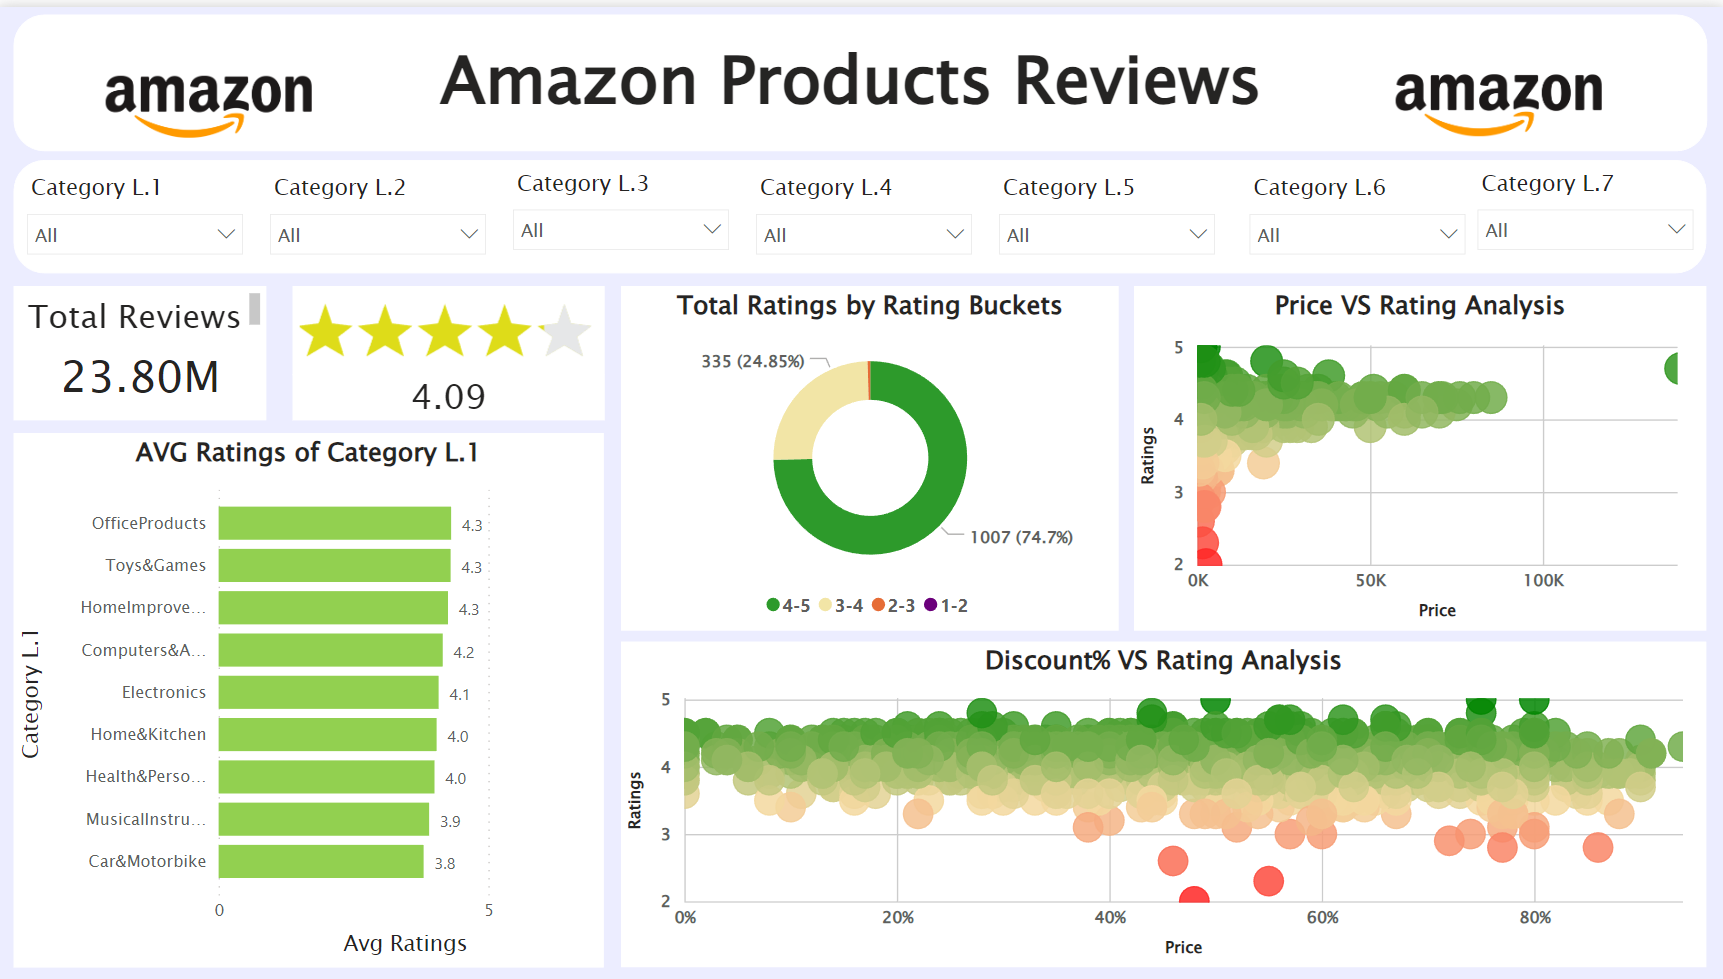

Layout of this report page (visuals, bound fields, positions):
{"tool":"powerbi","page":{"name":"Home Page","canvas":[1280,720],"ordinal":0},"visuals":[{"type":"group","id":"g1","title":"Header","box":[12.2,5.6,1254.4,101.1],"z":0},{"type":"textbox","box":[12.2,5.6,1254.4,101.1],"z":0,"group":"g1"},{"type":"textbox","box":[12.5,113.8,1253.7,83.8],"z":0,"group":"g2"},{"type":"card","title":"TotalReviews","fields":{"Values":["Sum(Amazon_Products_Reviews.ratings_count)"]},"box":[12.5,238.9,187.5,67.3],"z":0,"group":"g3"},{"type":"image","box":[65,46,184.7,56.3],"z":1000,"group":"g1"},{"type":"group","id":"g2","title":"Categories Slicer","box":[12.5,113.8,1253.7,83.8],"z":1000},{"type":"slicer","fields":{"Values":["Amazon_Products_Reviews.cat1"]},"box":[12.5,117.6,180,80],"z":1000,"group":"g2"},{"type":"textbox","box":[12.5,206.2,187.5,39.6],"z":1000,"group":"g3"},{"type":"image","box":[1019.6,44.6,184.7,56.3],"z":2000,"group":"g1"},{"type":"slicer","fields":{"Values":["Amazon_Products_Reviews.cat2"]},"box":[192.5,117.6,180,80],"z":2000,"group":"g2"},{"type":"group","id":"g3","title":"Group 1","box":[12.5,206.2,187.5,100],"z":2000},{"type":"slicer","fields":{"Values":["Amazon_Products_Reviews.cat3"]},"box":[372.5,113.8,180,80],"z":3000,"group":"g2"},{"type":"PBI_CV_9053509D_D461_463A_B485_CE9F6AB0F13D","title":"Ratings","fields":{"value":["Measured.Performance2"]},"box":[218.8,206.2,231.2,66.2],"z":3000},{"type":"slicer","fields":{"Values":["Amazon_Products_Reviews.cat4"]},"box":[552.5,117.6,180,80],"z":4000,"group":"g2"},{"type":"card","fields":{"Values":["Measured.Performance2"]},"box":[218.8,272.5,231.2,33.8],"z":4000},{"type":"slicer","fields":{"Values":["Amazon_Products_Reviews.cat5"]},"box":[732.5,117.6,180,80],"z":5000,"group":"g2"},{"type":"clusteredBarChart","title":"AVG Ratings of Category L.1","fields":{"Category":["Amazon_Products_Reviews.cat1"],"Y":["Measured.Performance2"]},"box":[12.5,315,437.5,396.2],"z":5000},{"type":"slicer","fields":{"Values":["Amazon_Products_Reviews.cat7"]},"box":[1086.2,113.8,180,80],"z":6000},{"type":"slicer","fields":{"Values":["Amazon_Products_Reviews.cat6"]},"box":[917.5,117.6,180,80],"z":6000,"group":"g2"},{"type":"donutChart","title":"Total Ratings by Rating Buckets","fields":{"Y":["Measured.ratings2","Measured.ratings3","Measured.ratings4","Measured.ratings5"]},"box":[462.5,206.2,368.8,255],"z":7000},{"type":"scatterChart","title":"Price VS Rating Analysis","fields":{"Size":["CountNonNull(Amazon_Products_Reviews.product_id)"],"X":["Sum(Amazon_Products_Reviews.actual_price)"],"Category":["Amazon_Products_Reviews.product_id"],"Y":["Sum(Amazon_Products_Reviews.rating)"]},"box":[842.5,206.2,423.8,255],"z":8000},{"type":"scatterChart","title":"Discount% VS Rating Analysis","fields":{"Size":["CountNonNull(Amazon_Products_Reviews.product_id)"],"Category":["Amazon_Products_Reviews.product_id"],"Y":["Sum(Amazon_Products_Reviews.rating)"],"X":["Max(Amazon_Products_Reviews.discount_percentage)"]},"box":[462.5,470,803.8,241.2],"z":9000}]}

Visuals, with their boxes in screenshot pixels (x1, y1, x2, y2), scaled from the page's 1280x720 canvas onto the 1723x979 screenshot:
"Header" group: pyautogui.locateOnScreen(16, 8, 1705, 145)
textbox: pyautogui.locateOnScreen(16, 8, 1705, 145)
textbox: pyautogui.locateOnScreen(17, 155, 1704, 269)
"TotalReviews" card: pyautogui.locateOnScreen(17, 325, 269, 416)
image: pyautogui.locateOnScreen(87, 63, 336, 139)
"Categories Slicer" group: pyautogui.locateOnScreen(17, 155, 1704, 269)
slicer - Amazon_Products_Reviews.cat1: pyautogui.locateOnScreen(17, 160, 259, 269)
textbox: pyautogui.locateOnScreen(17, 280, 269, 334)
image: pyautogui.locateOnScreen(1372, 61, 1621, 137)
slicer - Amazon_Products_Reviews.cat2: pyautogui.locateOnScreen(259, 160, 501, 269)
"Group 1" group: pyautogui.locateOnScreen(17, 280, 269, 416)
slicer - Amazon_Products_Reviews.cat3: pyautogui.locateOnScreen(501, 155, 744, 264)
"Ratings" PBI_CV_9053509D_D461_463A_B485_CE9F6AB0F13D: pyautogui.locateOnScreen(295, 280, 606, 370)
slicer - Amazon_Products_Reviews.cat4: pyautogui.locateOnScreen(744, 160, 986, 269)
card - Measured.Performance2: pyautogui.locateOnScreen(295, 371, 606, 416)
slicer - Amazon_Products_Reviews.cat5: pyautogui.locateOnScreen(986, 160, 1228, 269)
"AVG Ratings of Category L.1" clusteredBarChart: pyautogui.locateOnScreen(17, 428, 606, 967)
slicer - Amazon_Products_Reviews.cat7: pyautogui.locateOnScreen(1462, 155, 1704, 264)
slicer - Amazon_Products_Reviews.cat6: pyautogui.locateOnScreen(1235, 160, 1477, 269)
"Total Ratings by Rating Buckets" donutChart: pyautogui.locateOnScreen(623, 280, 1119, 627)
"Price VS Rating Analysis" scatterChart: pyautogui.locateOnScreen(1134, 280, 1705, 627)
"Discount% VS Rating Analysis" scatterChart: pyautogui.locateOnScreen(623, 639, 1705, 967)
